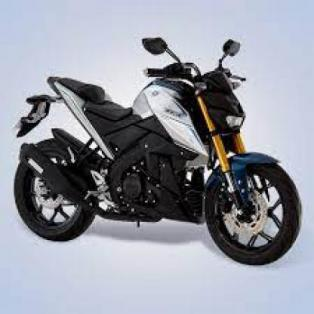Motocicleta: (13, 31, 305, 268)
